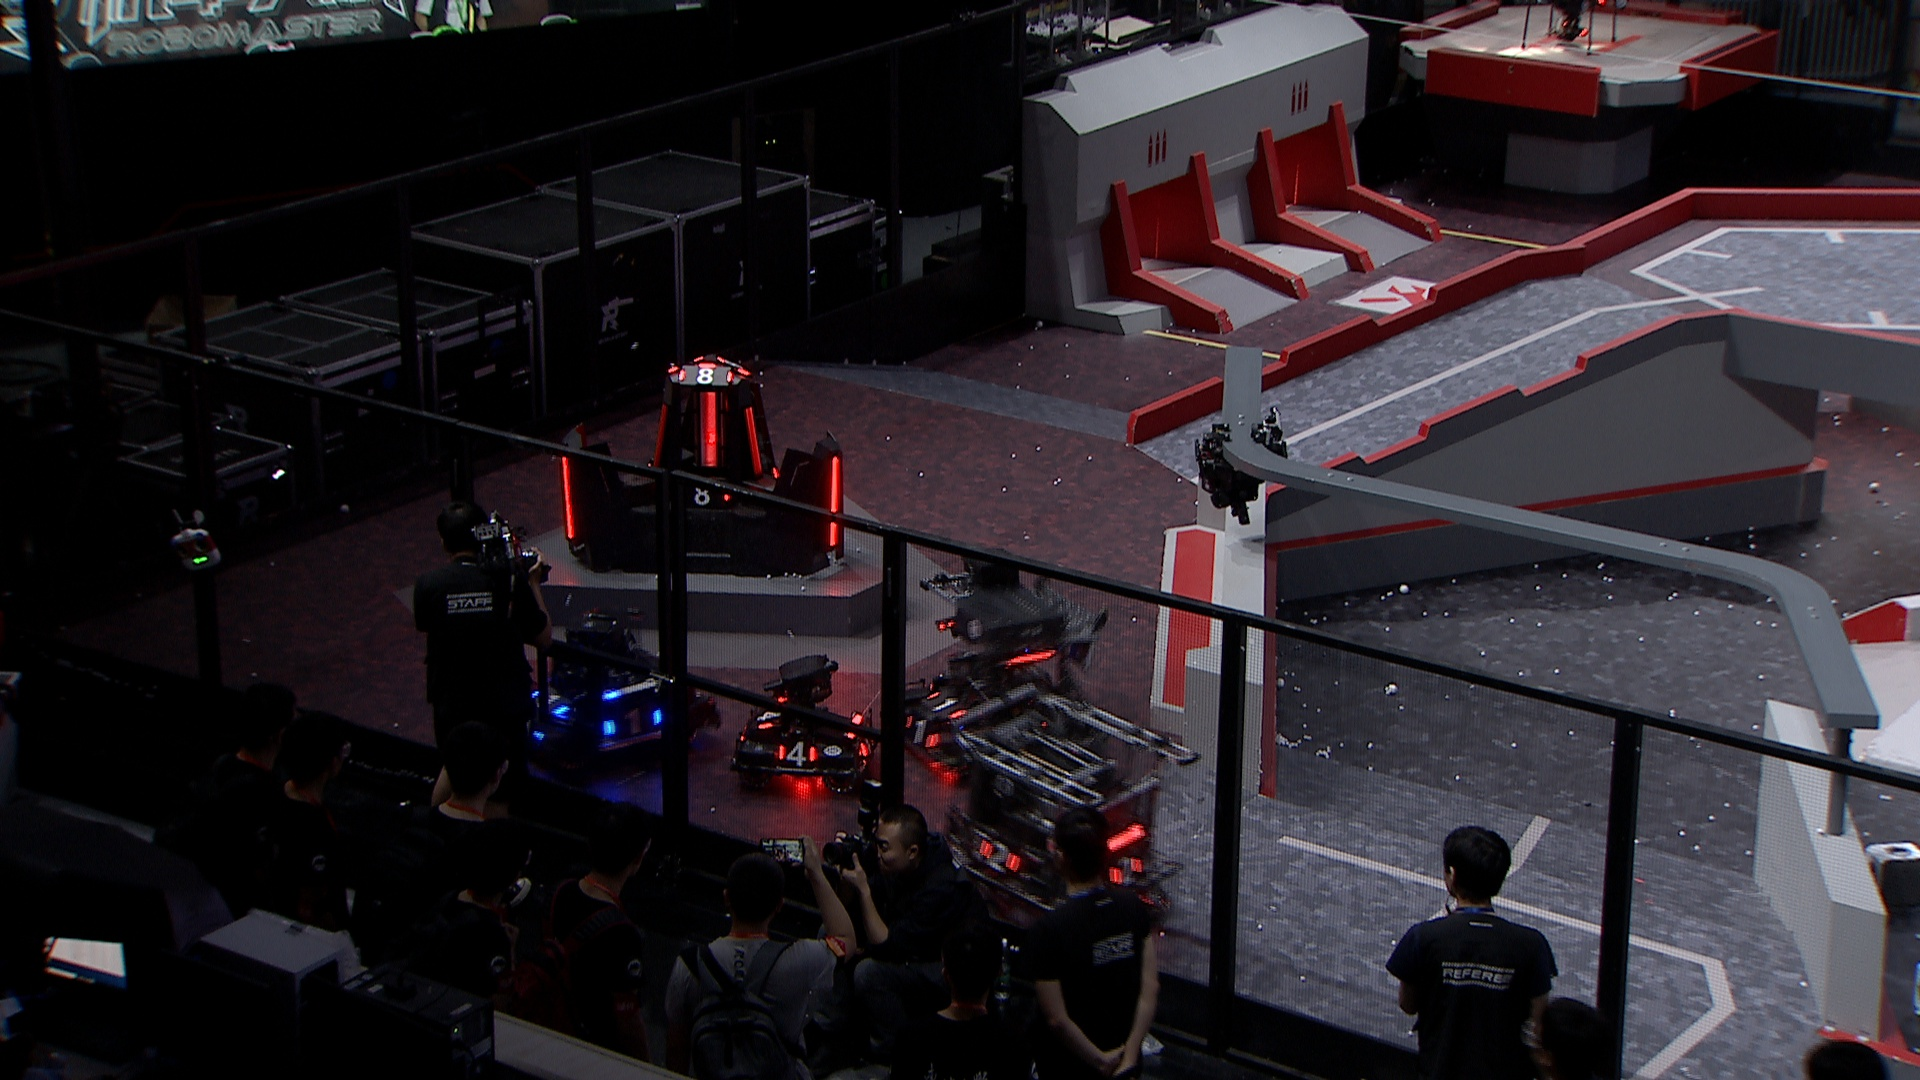armor: (603, 707, 670, 742), (695, 392, 723, 469), (558, 455, 582, 541), (827, 456, 845, 549), (647, 404, 671, 472), (742, 407, 765, 476), (978, 840, 1017, 877), (775, 740, 820, 770), (683, 485, 737, 510), (901, 713, 942, 746), (675, 365, 736, 386), (1105, 855, 1145, 885), (924, 690, 967, 717), (529, 688, 567, 717), (756, 704, 779, 731), (856, 735, 877, 760)
base: (550, 356, 856, 579)
car: (931, 688, 1204, 928), (878, 550, 1106, 785), (505, 611, 713, 777), (731, 651, 884, 796)
watcher: (1193, 407, 1294, 527)
